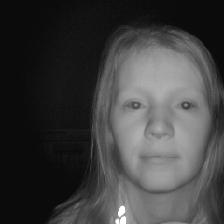normal: (86, 21, 224, 206)
